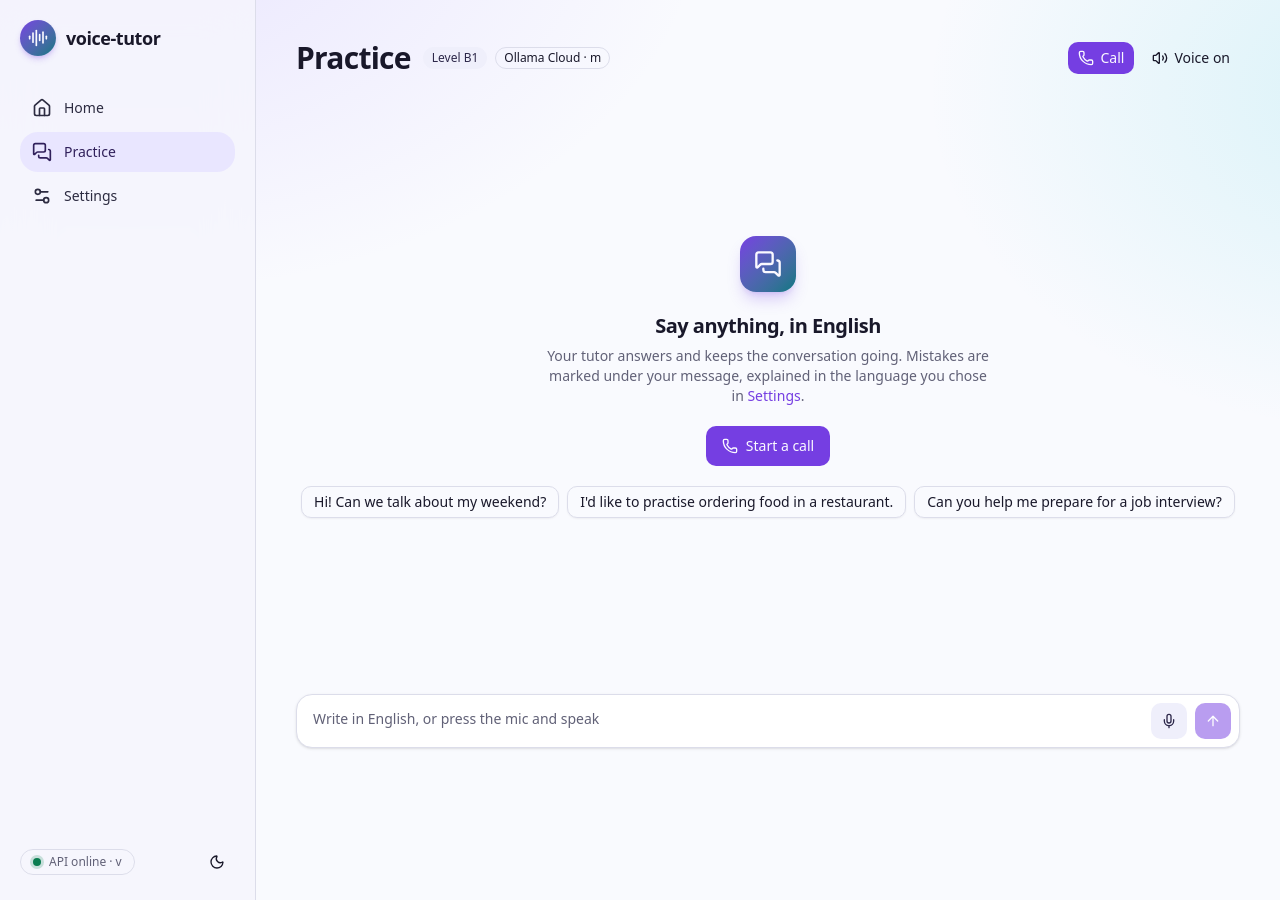
Test: Speaking › explains microphone problems
The image size is (1280, 900).
Expected: the heading "Practice" is shown, [296, 40, 411, 76]
Click the button named "Speak": (1169, 721) [1151, 703, 1187, 739]
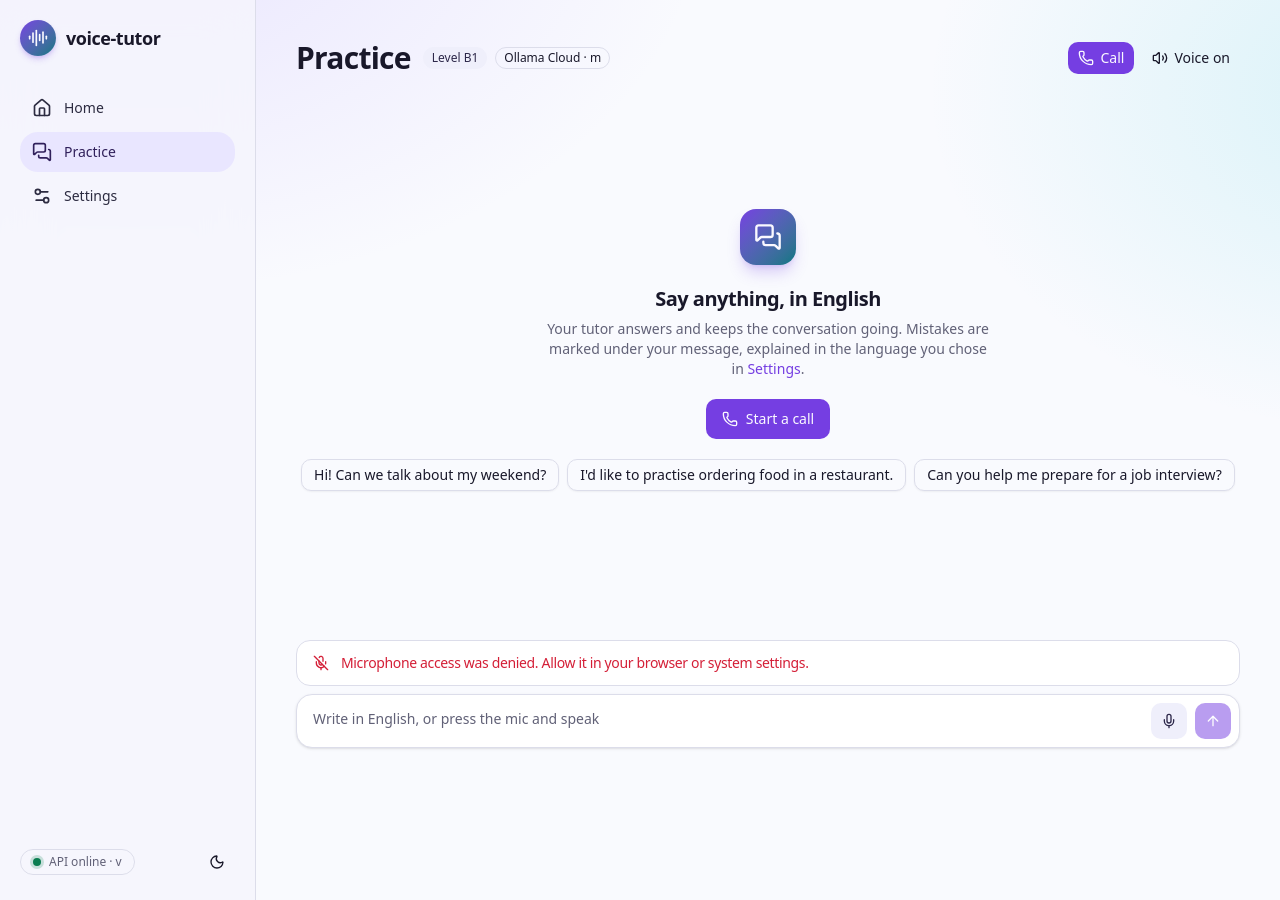
Now the text "Microphone access was denied" is shown, box [341, 653, 808, 672]
